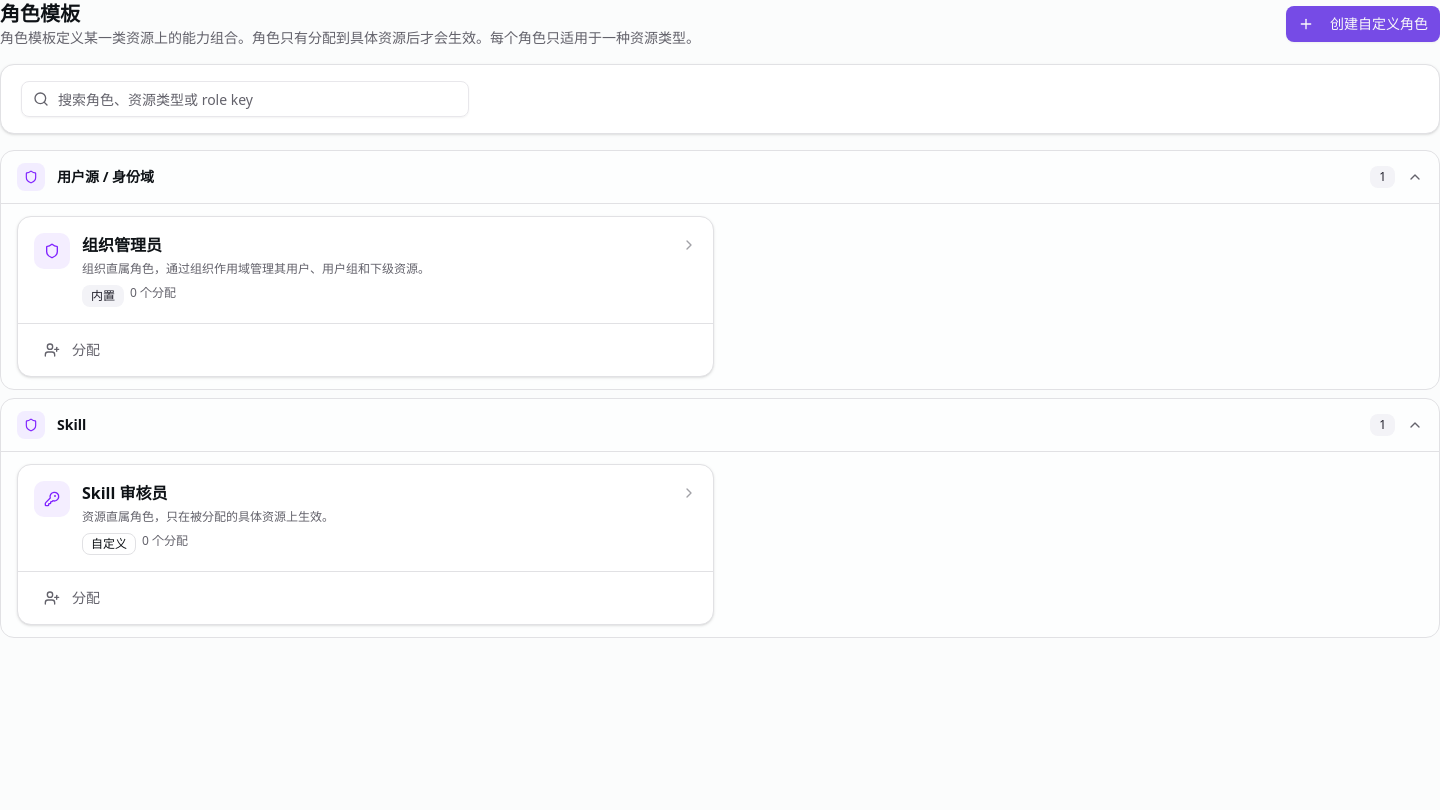
Test: RoleLibrary › opens a role detail sheet when a card is clicked
Expected: the text "reviewer" is not shown
Step 1. Click the text "Skill 审核员" → [125, 493], box [82,482,168,504]
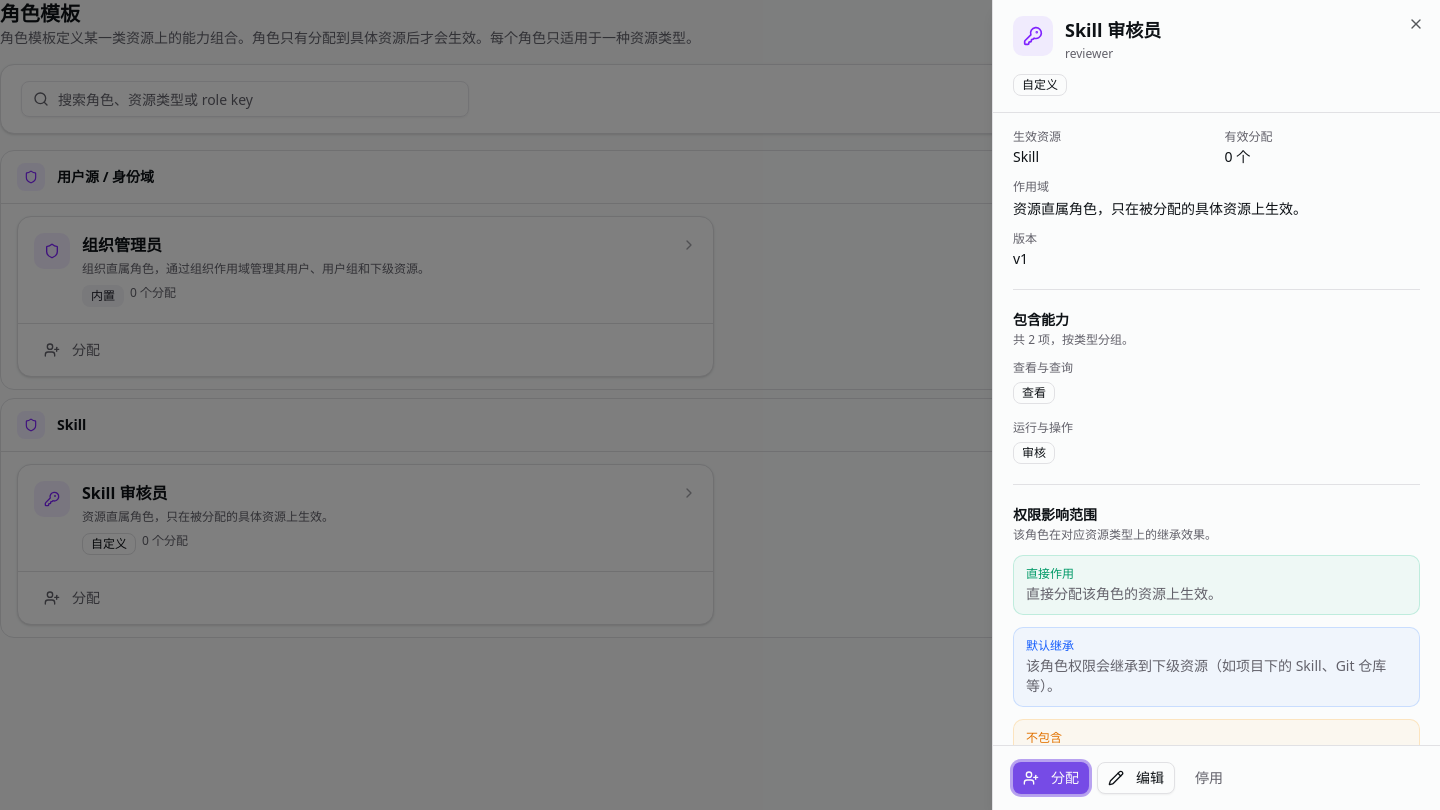
Now the text "reviewer" is shown, box [1065,45,1113,62]
Now the heading "包含能力" is shown, box [1013,310,1069,329]
